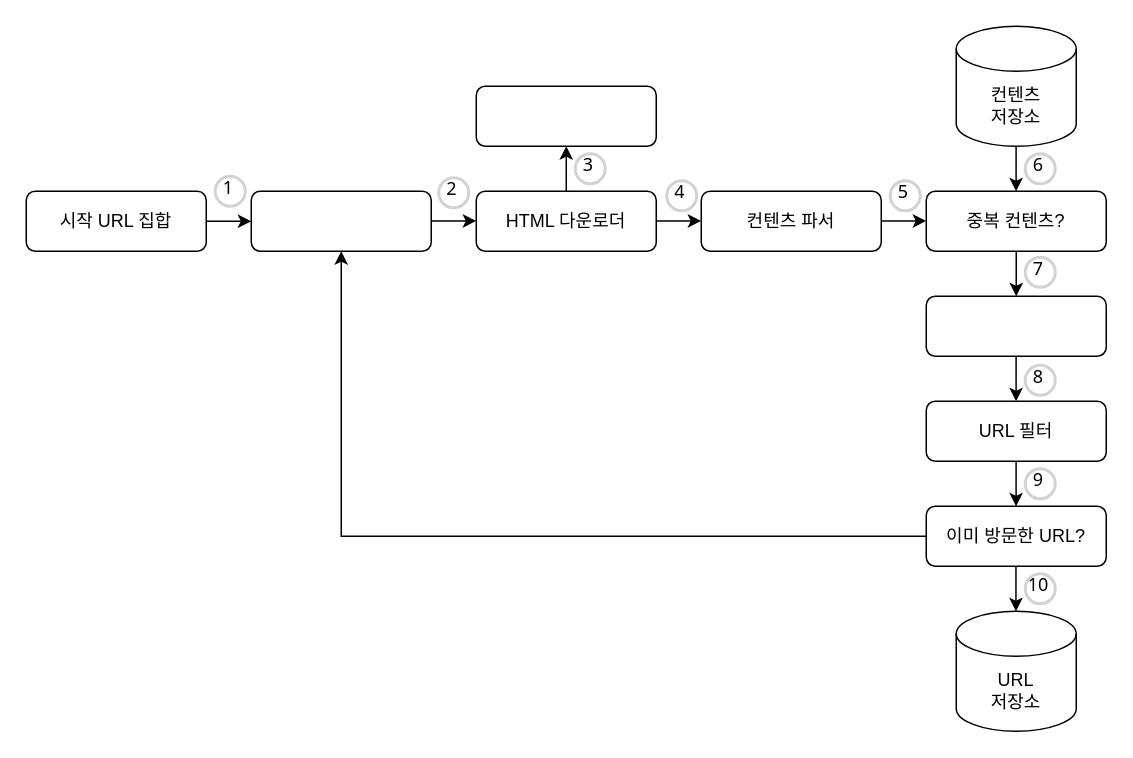
Some shapes in this 1133 by 758 pixel diagram are drawn without their labels. Each missing label, with the centre of its shape:
URL 추출기: (x=1015, y=325)
도메인 이름 변환기: (x=565, y=115)
미수집 URL 저장소: (x=340, y=220)
